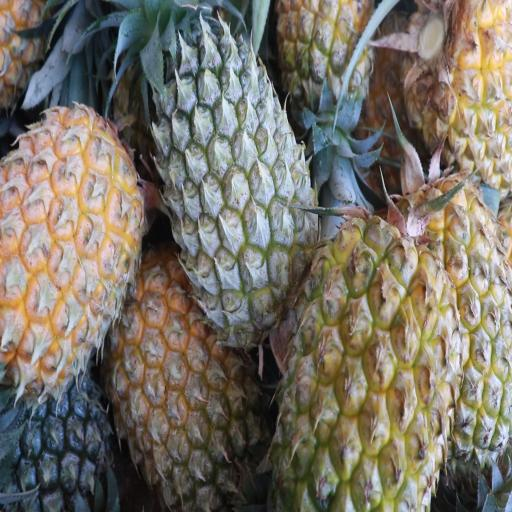------------------------------: (276, 0, 373, 187)
Pineapple - v8 v1: (275, 221, 449, 512), (0, 110, 149, 372), (110, 268, 264, 509), (385, 180, 511, 446), (401, 0, 511, 184)
